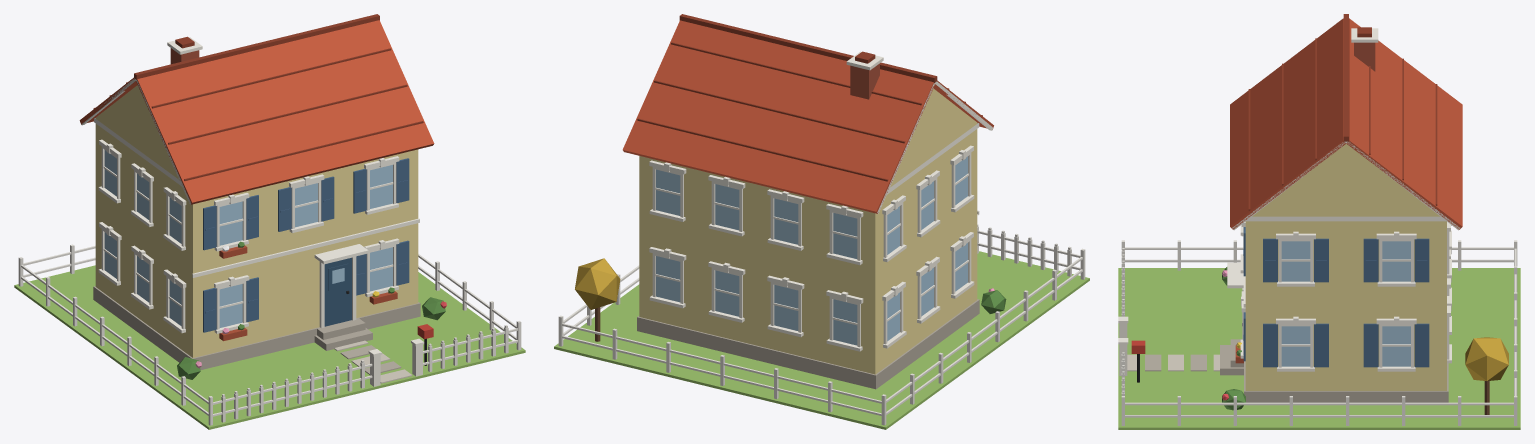
File: MustakilEv_avrupa_1_3_Hafif.fbx
3 views of the same model, side by side, from view 1: azimuth 30°, elevation 25°; view 2: azimuth 150°, elevation 25°; view 3: azimuth 270°, elevation 25° (orthographic). The views are drawn at different scales.
Parts seen in each view (by area): view 1: MustakilEv_avrupa_1_3_Hafif; view 2: MustakilEv_avrupa_1_3_Hafif; view 3: MustakilEv_avrupa_1_3_Hafif.
Boxes of the visible parts, left/top/right/bottom form: MustakilEv_avrupa_1_3_Hafif: left=14, top=14, right=525, bottom=429; MustakilEv_avrupa_1_3_Hafif: left=554, top=14, right=1089, bottom=429; MustakilEv_avrupa_1_3_Hafif: left=1118, top=14, right=1520, bottom=429.
Bounding box in the file's own units: 11.26 × 9.47 × 11.99.
